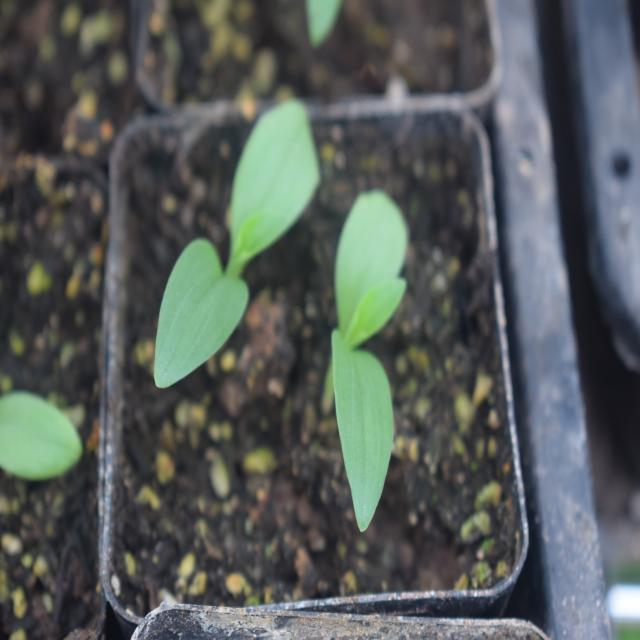Common Dayflower: (156, 97, 332, 428), (317, 170, 430, 536)
